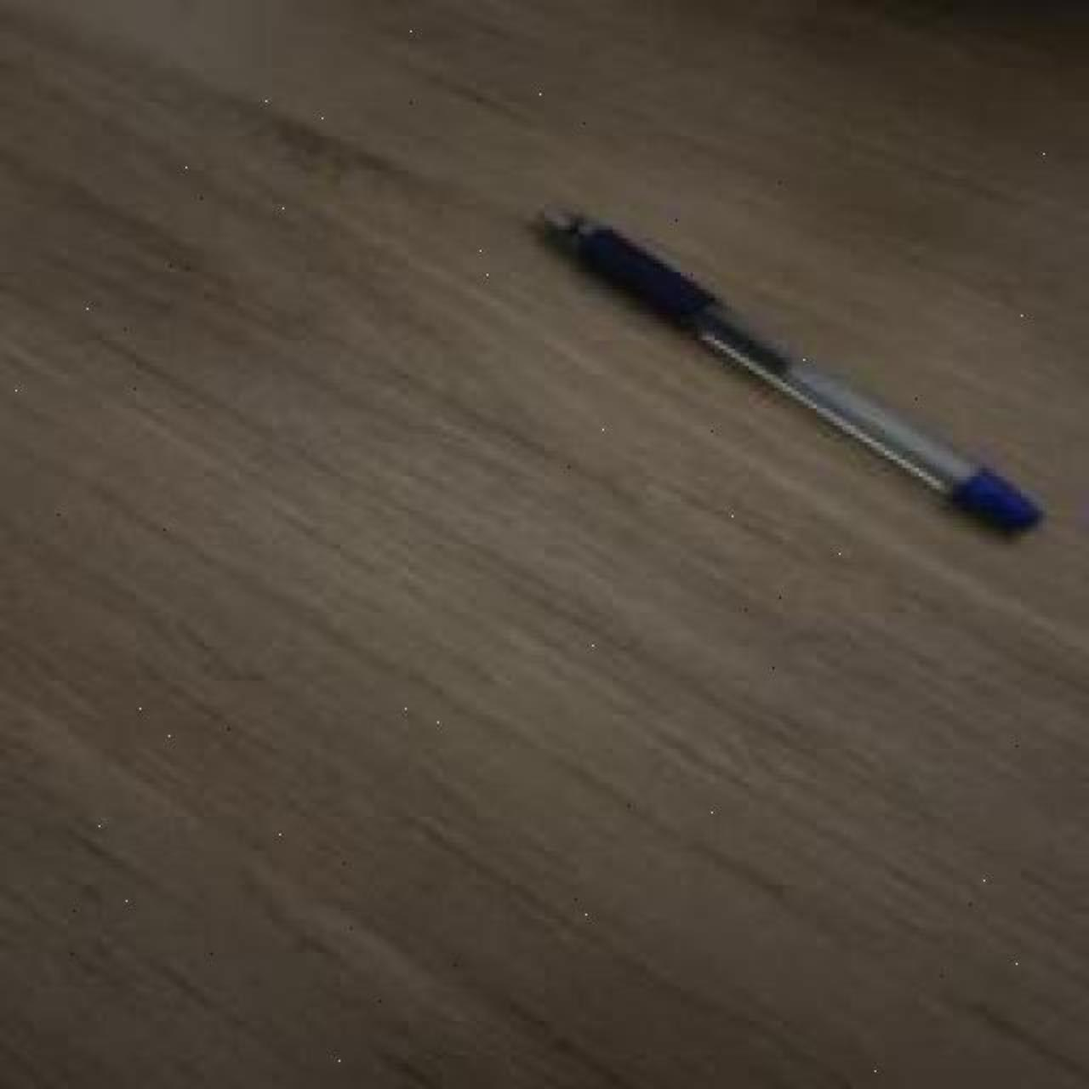pen: (527, 204, 1046, 536)
